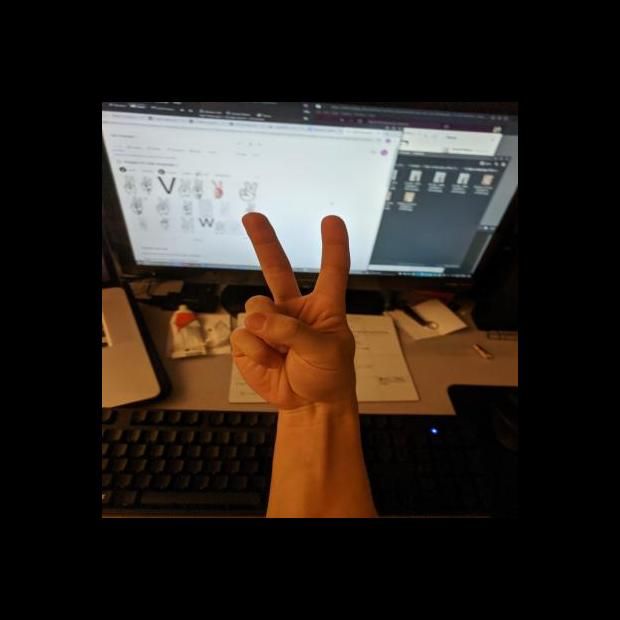U: (227, 208, 366, 412)
